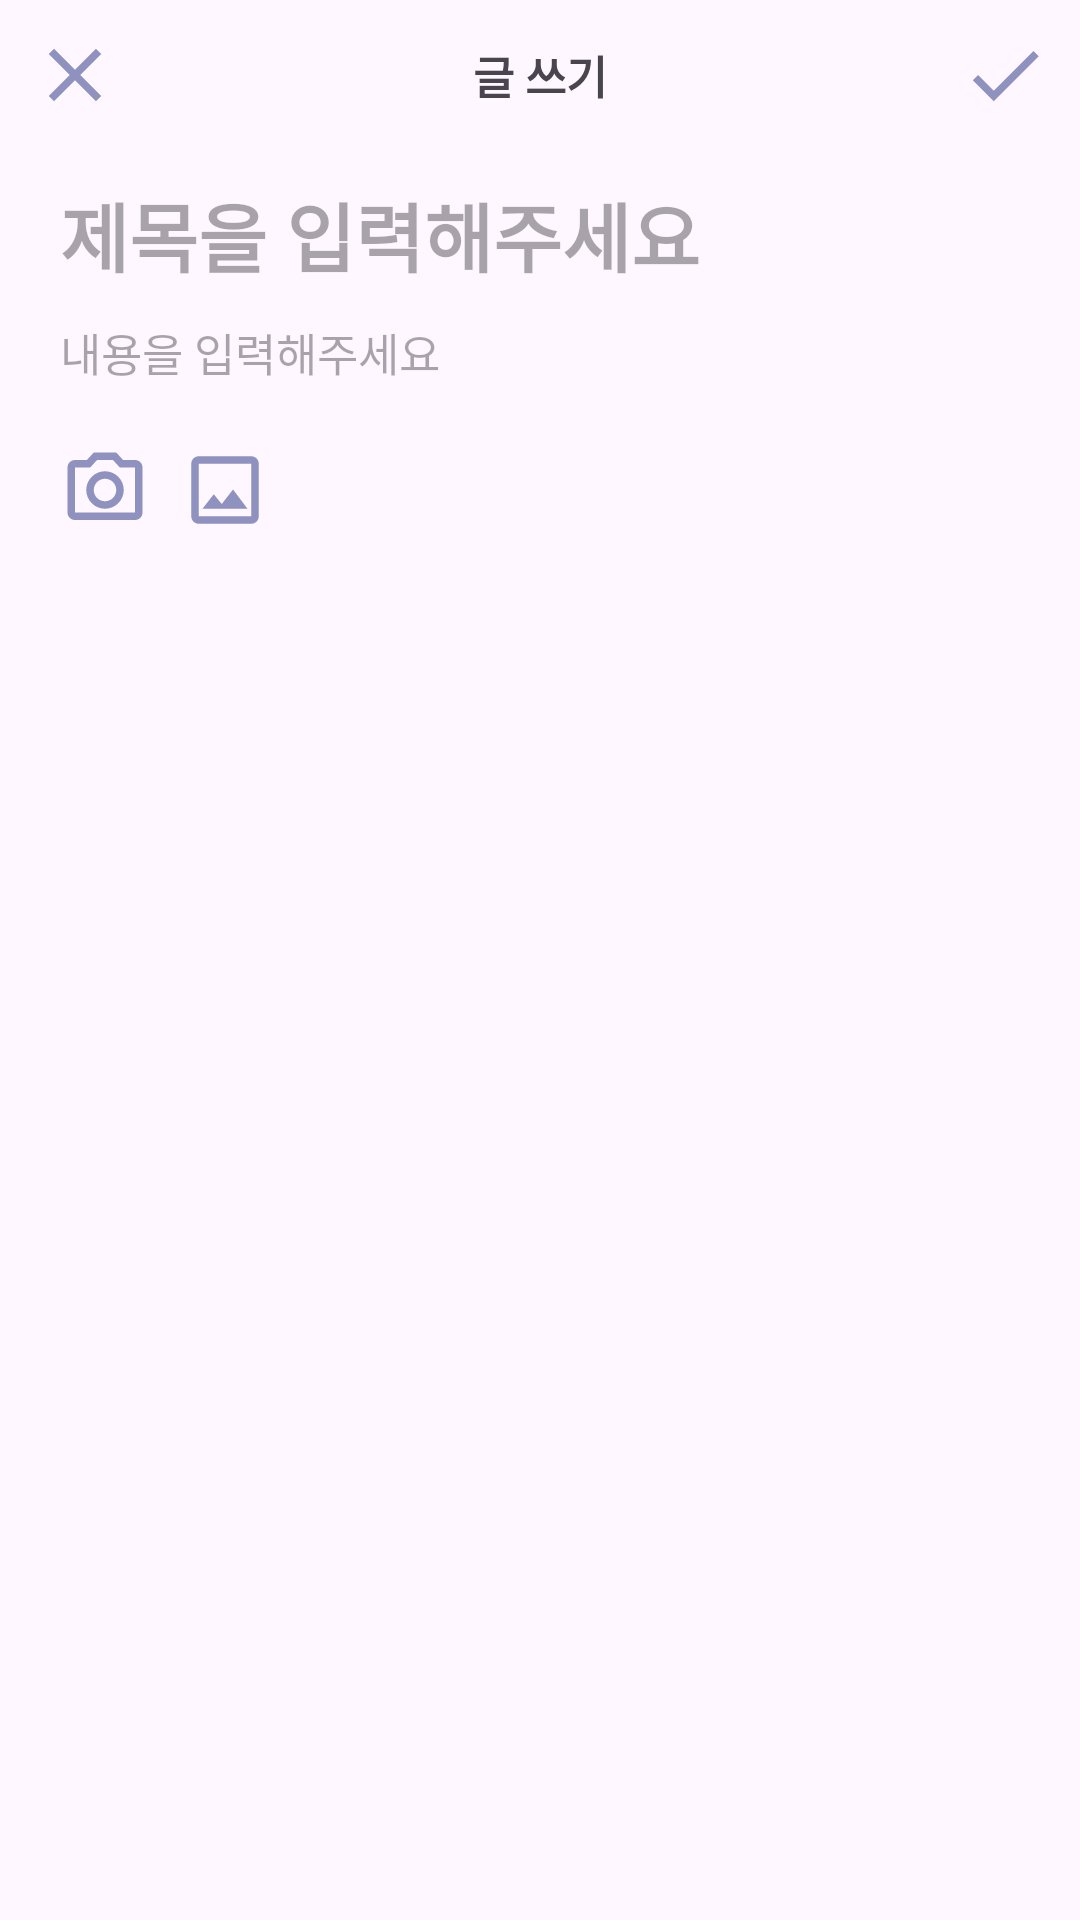

Screen size 1080*1920. Icon name, then its center in pixels as (x=x, y=y):
camera: (x=105, y=486)
cancel: (x=75, y=75)
success: (x=1006, y=76)
